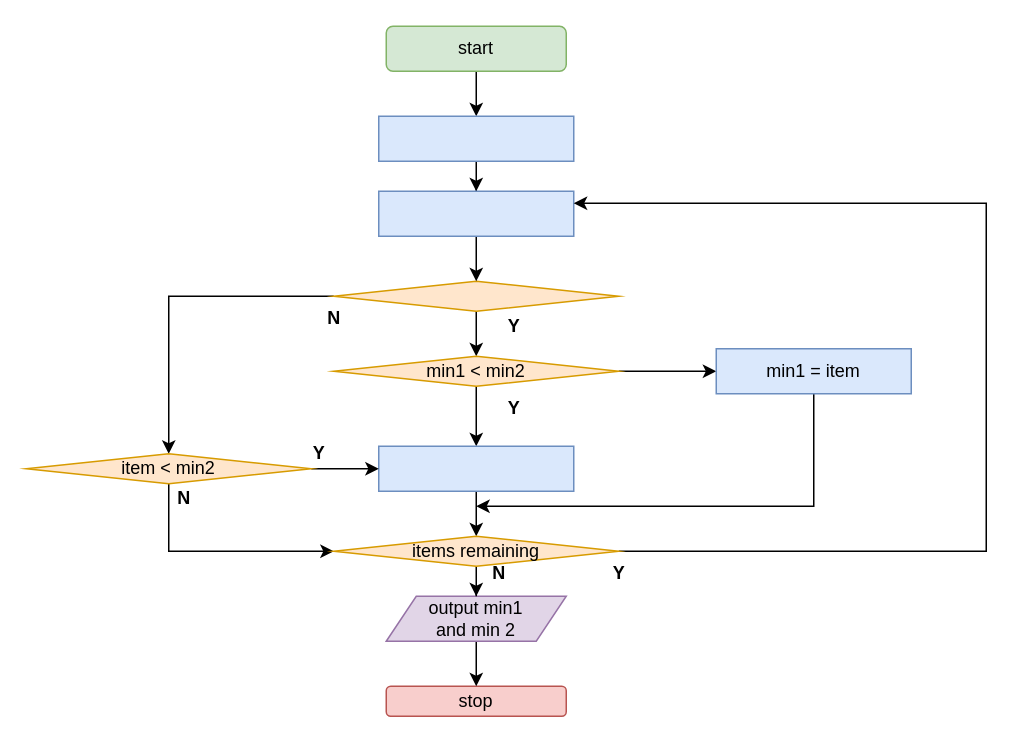
This 1025x743 diagram has some shape labels left out. The shapes that lost their labels are listed below. From the top down, each one's centre as x and y in pixels, then its label:
At (x=475, y=138): "init min1 to list item 1 and min2 to list item 2".
At (x=475, y=213): "get next item from list".
At (x=475, y=295): "item < min1".
At (x=475, y=468): "min2 = item".
